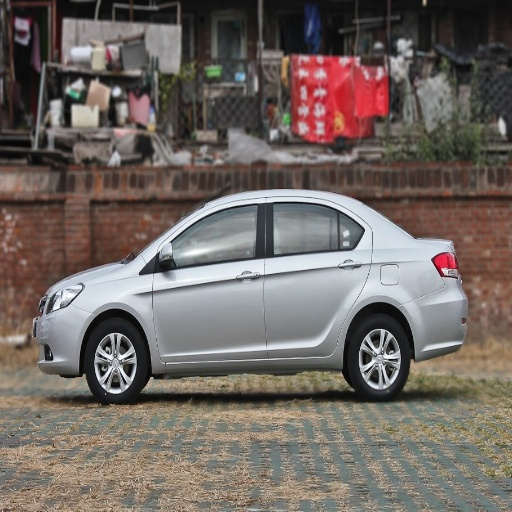back_left_door: (267, 200, 371, 357)
front_left_door: (153, 201, 266, 360)
